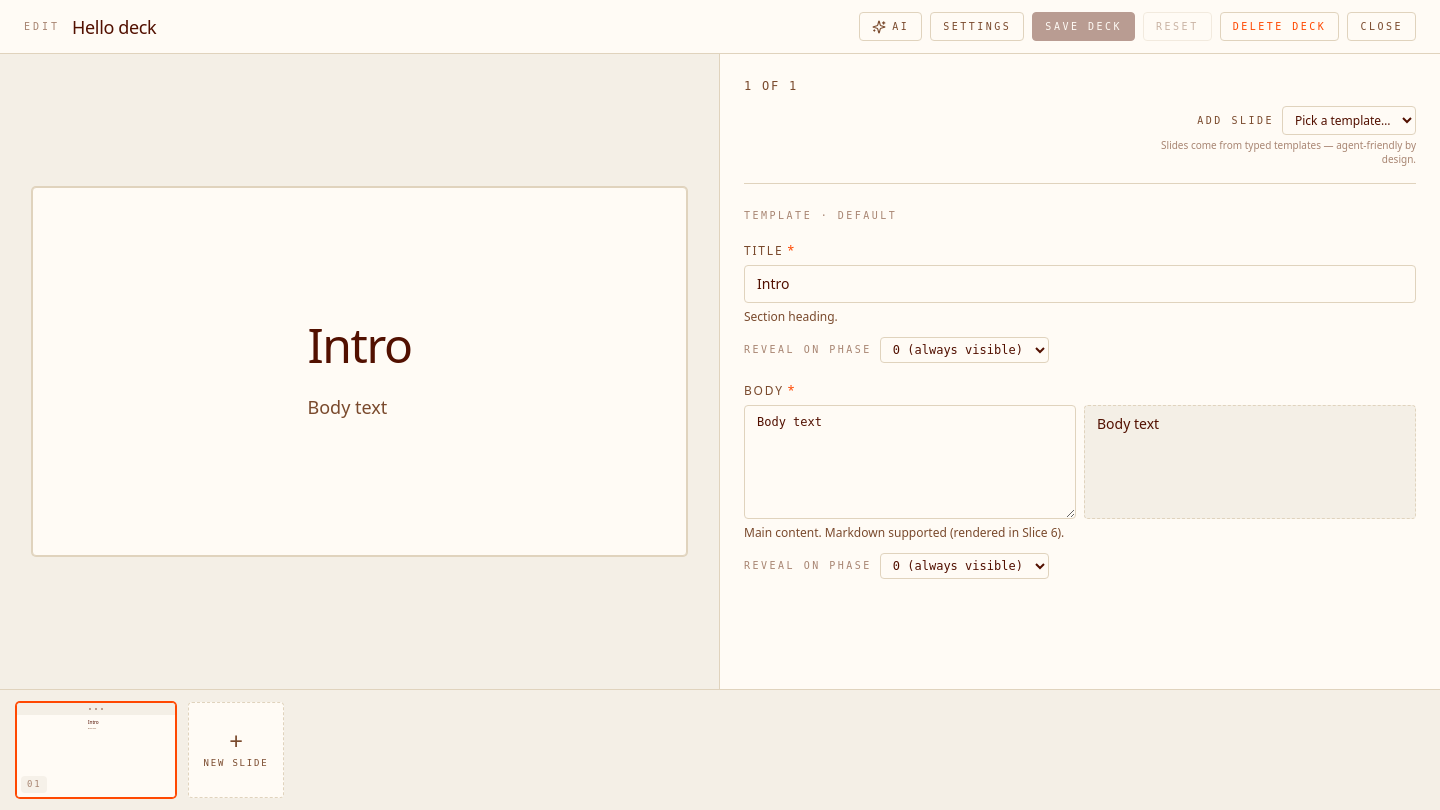
Scenario: <EditMode> — deck metadata panel › editing the title in the panel updates the draft + dirty indicator
The image size is (1440, 810).
Click the button with test id "edit-meta-toggle": click(977, 26) [930,12,1024,41]
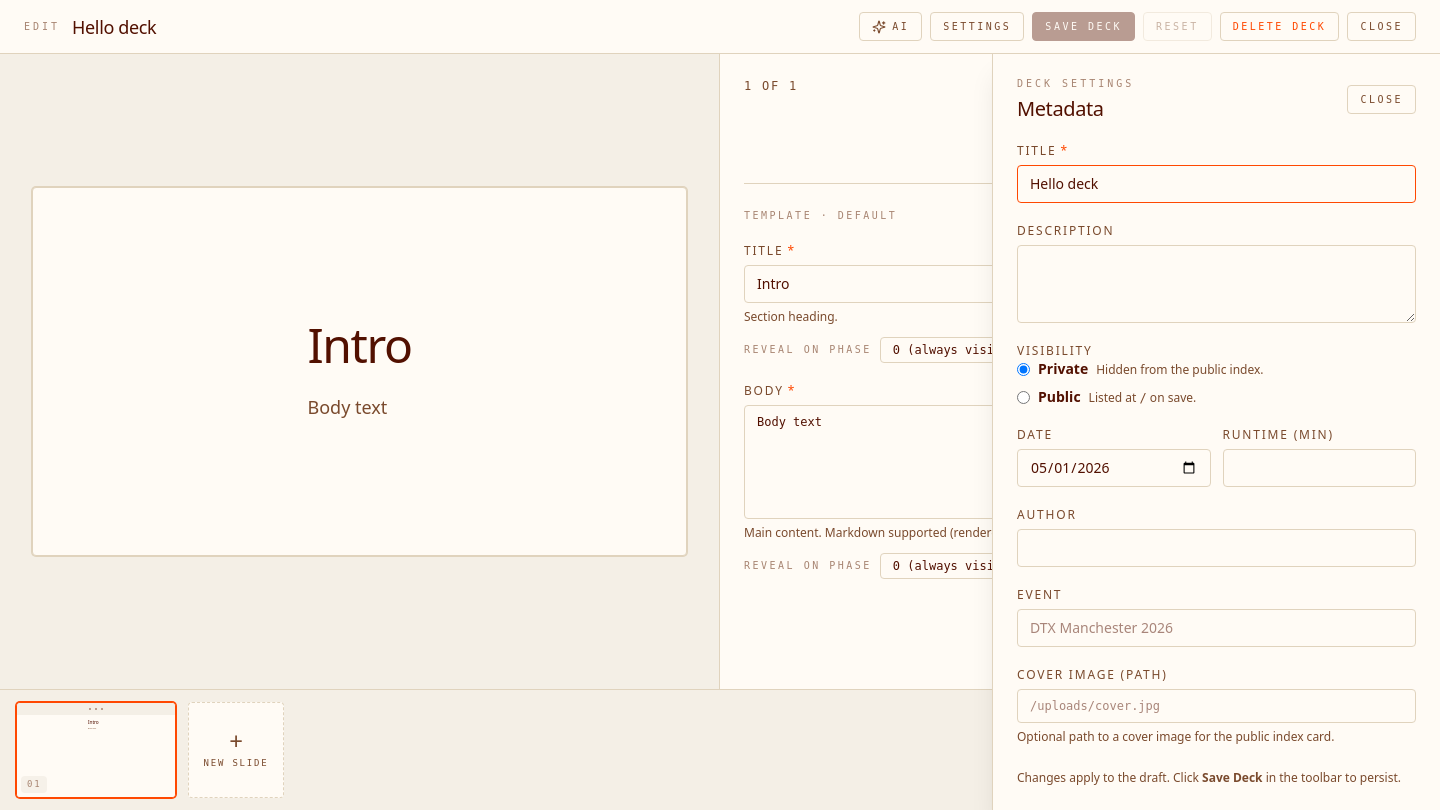
Replace the text in the field with test id "deck-meta-title" with "Renamed Deck": (1216, 184) [1017,165,1416,203]
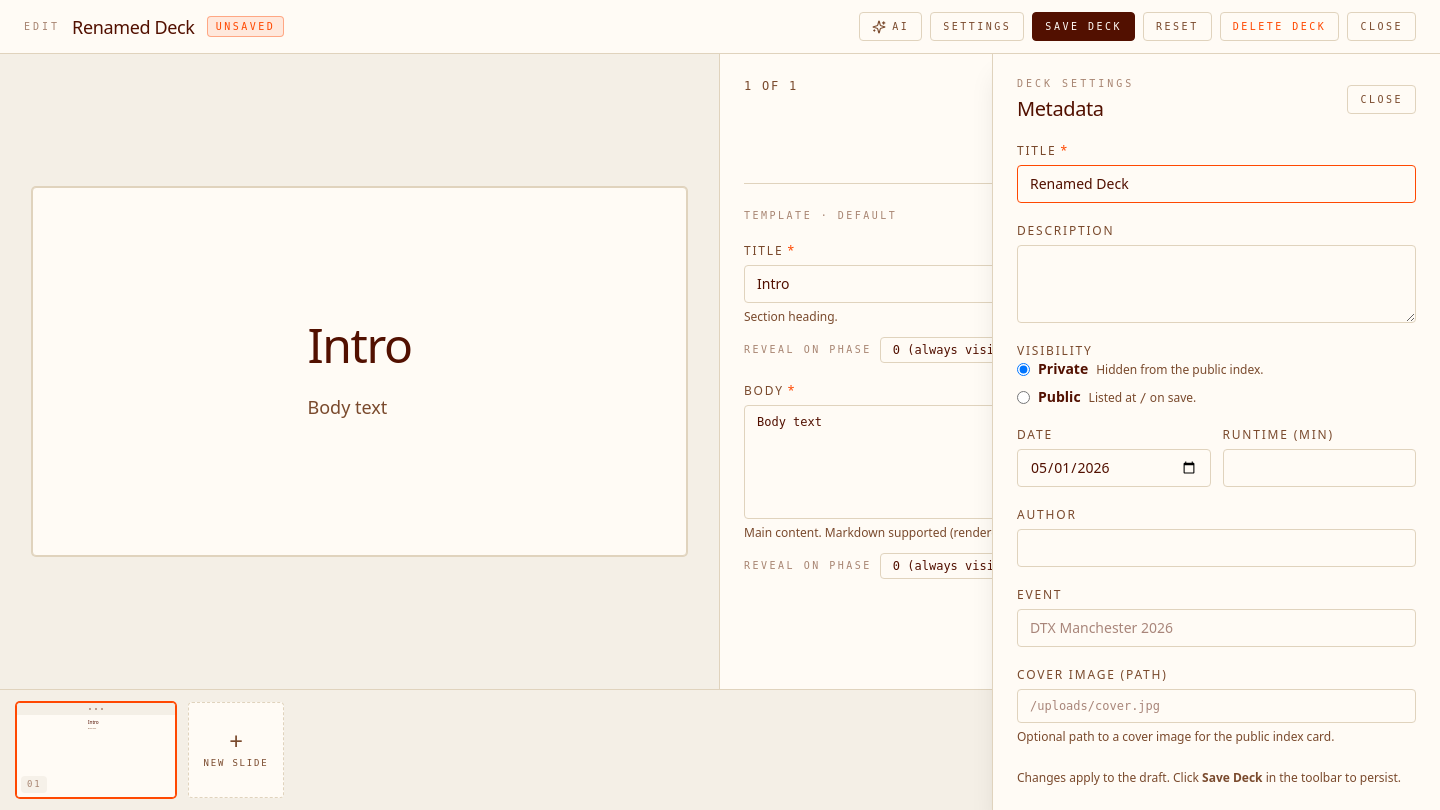
Expected: the text "Unsaved" is shown, [207,16,284,37]
